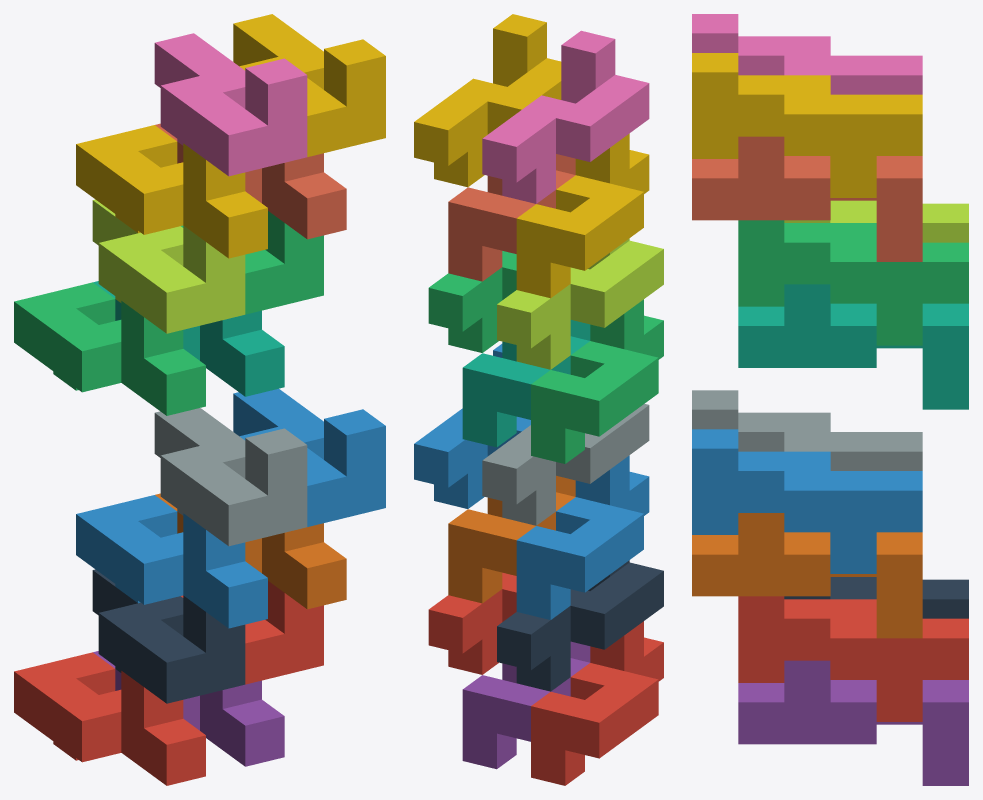
The model's file is tiling.obj.
3 views of the same model, side by side, from view 1: azimuth 30°, elevation 25°; view 2: azimuth 150°, elevation 25°; view 3: azimuth 270°, elevation 25° (orthographic). The views are drawn at different scales.
Visible parts, largest first — view 1: copy_2_domain_4, copy_2_domain_2, copy_1_domain_2, copy_1_domain_4, copy_1_domain_3, copy_1_domain_1, copy_2_domain_3, copy_2_domain_1, copy_2_domain_8, copy_2_domain_6, copy_1_domain_8, copy_1_domain_6 (+4 smaller); view 2: copy_2_domain_4, copy_1_domain_4, copy_1_domain_2, copy_1_domain_3, copy_1_domain_1, copy_2_domain_8, copy_2_domain_1, copy_2_domain_3, copy_2_domain_2, copy_1_domain_5, copy_1_domain_7, copy_1_domain_6 (+4 smaller); view 3: copy_2_domain_6, copy_2_domain_8, copy_2_domain_5, copy_2_domain_7, copy_1_domain_7, copy_1_domain_5, copy_1_domain_6, copy_1_domain_8, copy_2_domain_4, copy_2_domain_2, copy_2_domain_1, copy_2_domain_3.
Boxes of the visible parts, left/top/right/bottom form: copy_2_domain_4: left=154, top=33, right=307, bottom=176; copy_2_domain_2: left=154, top=408, right=307, bottom=546; copy_1_domain_2: left=76, top=495, right=267, bottom=628; copy_1_domain_4: left=76, top=125, right=267, bottom=258; copy_1_domain_3: left=14, top=282, right=205, bottom=415; copy_1_domain_1: left=14, top=652, right=205, bottom=785; copy_2_domain_3: left=92, top=199, right=245, bottom=333; copy_2_domain_1: left=92, top=569, right=245, bottom=703; copy_2_domain_8: left=233, top=14, right=385, bottom=156; copy_2_domain_6: left=233, top=388, right=385, bottom=526; copy_1_domain_8: left=155, top=123, right=346, bottom=239; copy_1_domain_6: left=155, top=493, right=346, bottom=609; copy_2_domain_4: left=482, top=30, right=649, bottom=203; copy_1_domain_4: left=516, top=133, right=649, bottom=298; copy_1_domain_2: left=516, top=455, right=649, bottom=619; copy_1_domain_3: left=531, top=299, right=663, bottom=463; copy_1_domain_1: left=531, top=621, right=663, bottom=785; copy_2_domain_8: left=414, top=14, right=561, bottom=187; copy_2_domain_1: left=497, top=560, right=663, bottom=691; copy_2_domain_3: left=497, top=238, right=663, bottom=369; copy_2_domain_2: left=482, top=403, right=649, bottom=525; copy_1_domain_5: left=462, top=641, right=590, bottom=769; copy_1_domain_7: left=462, top=320, right=590, bottom=447; copy_1_domain_6: left=448, top=475, right=575, bottom=603; copy_2_domain_6: left=692, top=429, right=922, bottom=573; copy_2_domain_8: left=692, top=53, right=922, bottom=197; copy_2_domain_5: left=738, top=596, right=968, bottom=721; copy_2_domain_7: left=738, top=220, right=968, bottom=345; copy_1_domain_7: left=738, top=284, right=968, bottom=409; copy_1_domain_5: left=738, top=660, right=968, bottom=785; copy_1_domain_6: left=692, top=513, right=922, bottom=638; copy_1_domain_8: left=692, top=136, right=922, bottom=261; copy_2_domain_4: left=692, top=14, right=922, bottom=94; copy_2_domain_2: left=692, top=390, right=922, bottom=470; copy_2_domain_1: left=784, top=577, right=968, bottom=618; copy_2_domain_3: left=784, top=200, right=968, bottom=242.
Bounding box in the file's own units: 6 × 18 × 6.
